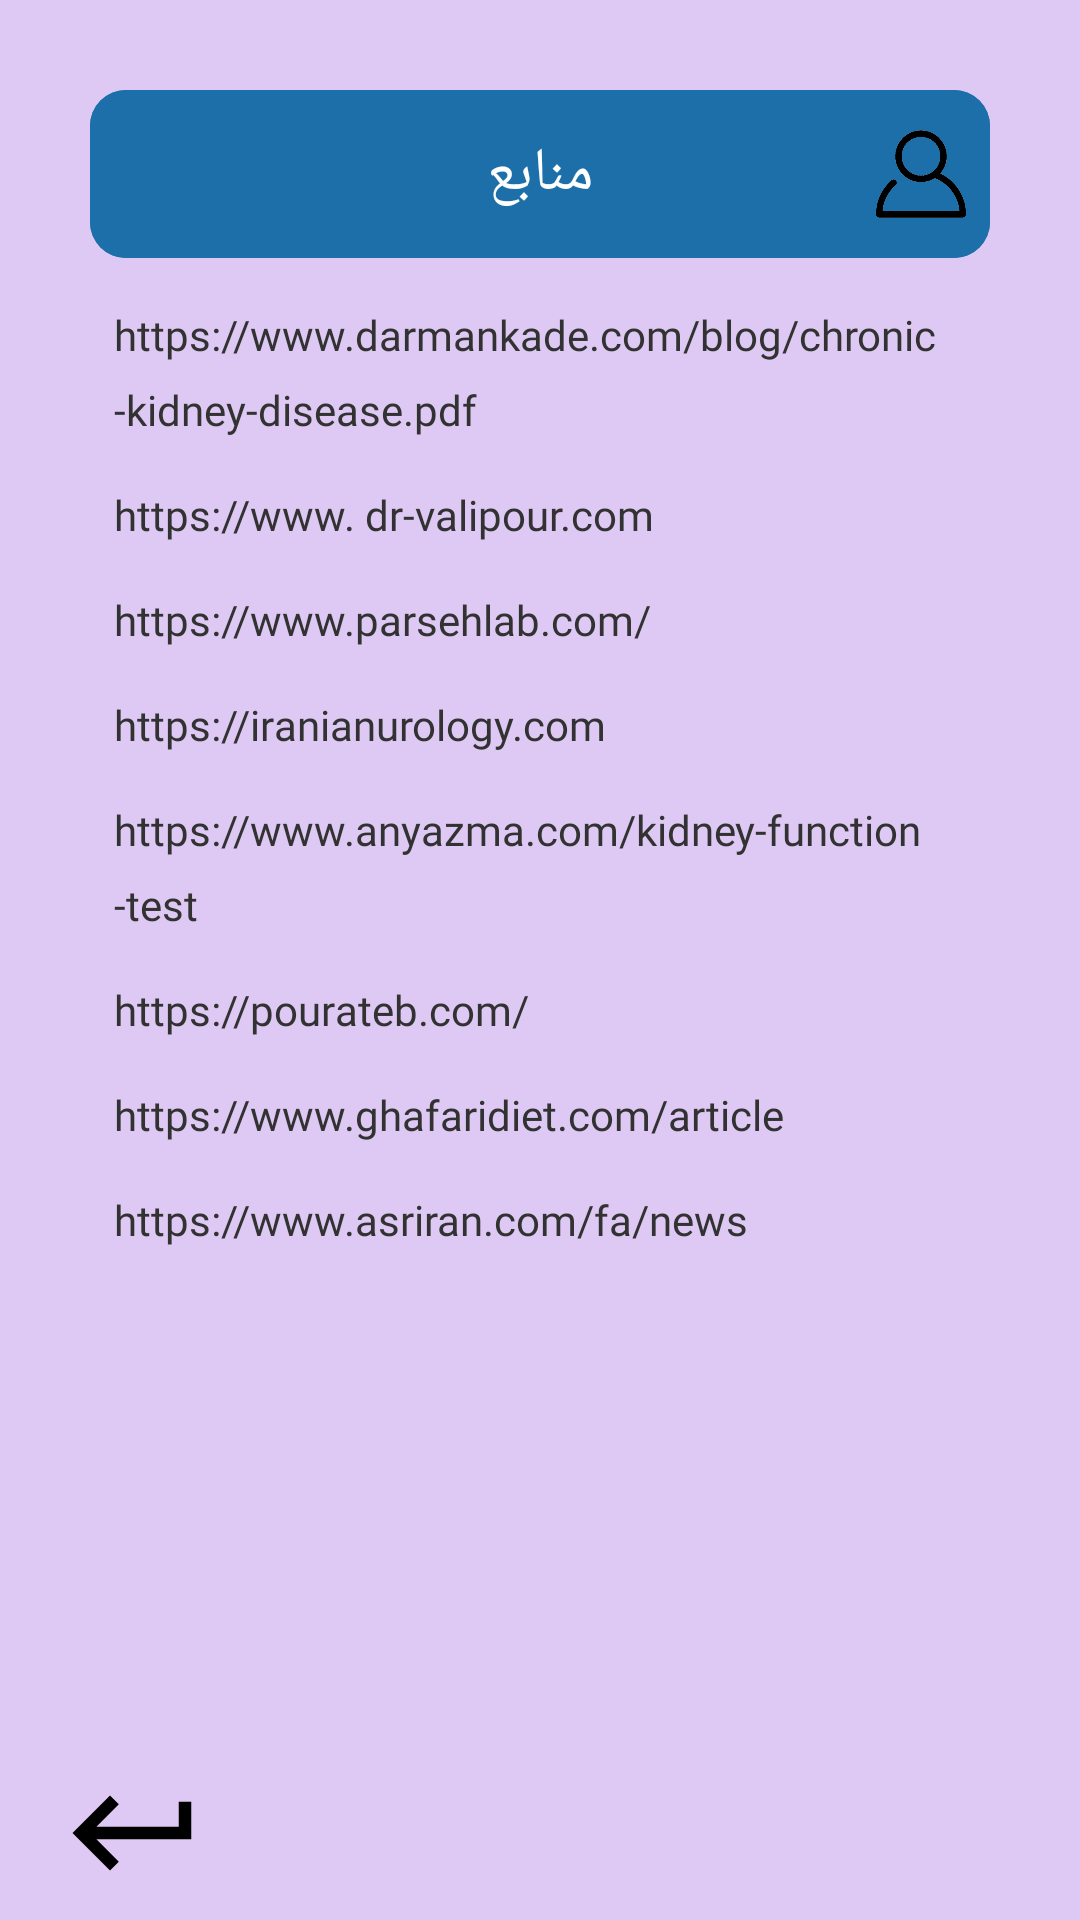

Locate icon controls on the screen. Image size 1080x1920, boxes as (x1, y1, x2, y2).
keyboard return: (72, 1795, 192, 1871)
login: (876, 130, 966, 218)
